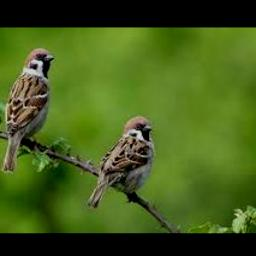Sparrow: (1, 47, 53, 173), (88, 115, 154, 209)
